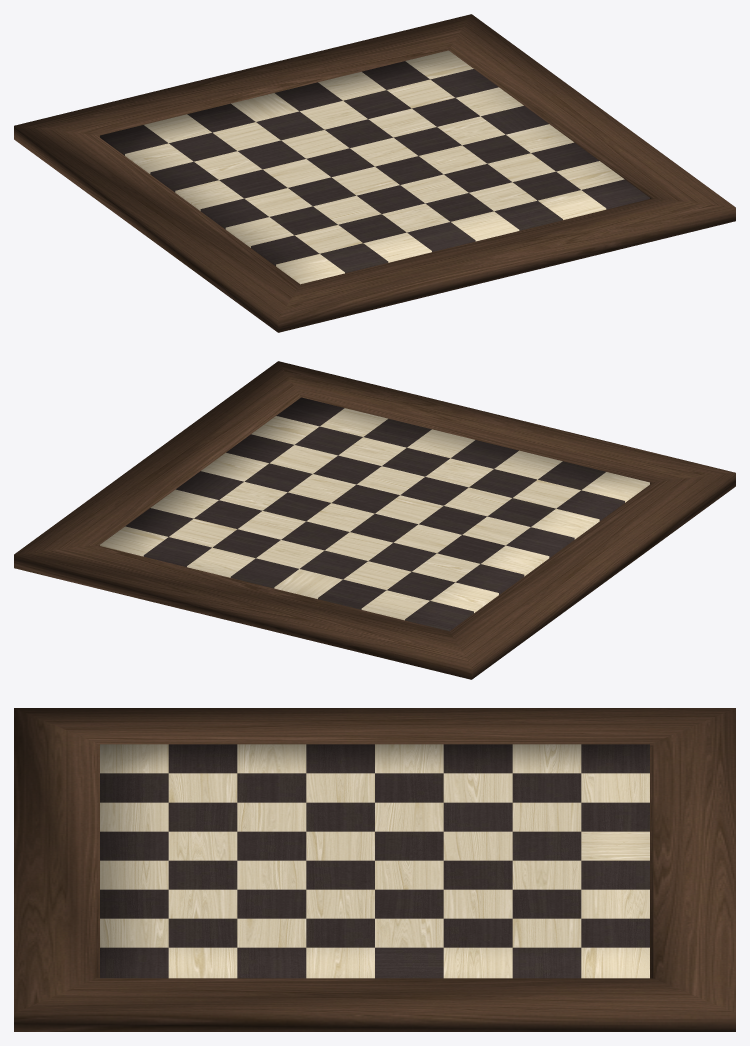
The model's file is Chess_Board_V1.obj.
The picture shows the model from 3 angles, top to bottom: view 1: azimuth 30°, elevation 25°; view 2: azimuth 150°, elevation 25°; view 3: azimuth 270°, elevation 25°; orthographic projection. The views are drawn at different scales.
Parts seen in each view (by area): view 1: Chess_Board_Copy; view 2: Chess_Board_Copy; view 3: Chess_Board_Copy.
Boxes of the visible parts, x1,y1,x2,y2 form: Chess_Board_Copy: (14,14,735,332); Chess_Board_Copy: (14,361,735,679); Chess_Board_Copy: (14,708,735,1031).
Size of the model in its own units: 1050 by 30 by 1050.
